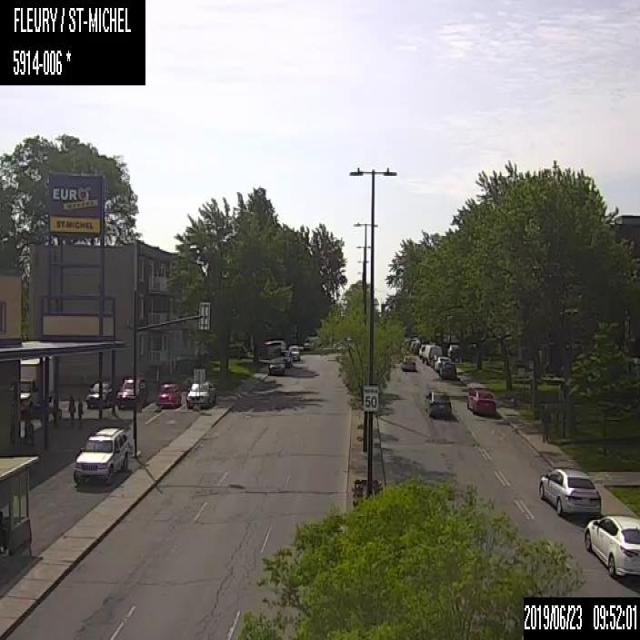pedestrian: (541, 403, 549, 443), (76, 393, 84, 426), (66, 394, 74, 424)
vehicle: (534, 463, 604, 522), (583, 508, 639, 576), (72, 426, 130, 486), (20, 356, 53, 414), (114, 375, 145, 410), (464, 384, 496, 415), (185, 377, 215, 410), (85, 378, 115, 405), (423, 388, 452, 415), (154, 380, 180, 409), (422, 344, 442, 365), (438, 360, 458, 380), (260, 339, 285, 354), (268, 354, 284, 375), (434, 356, 450, 371), (400, 356, 416, 370), (288, 344, 300, 361), (280, 348, 291, 366), (446, 343, 458, 358), (303, 336, 314, 348), (418, 343, 427, 357)
